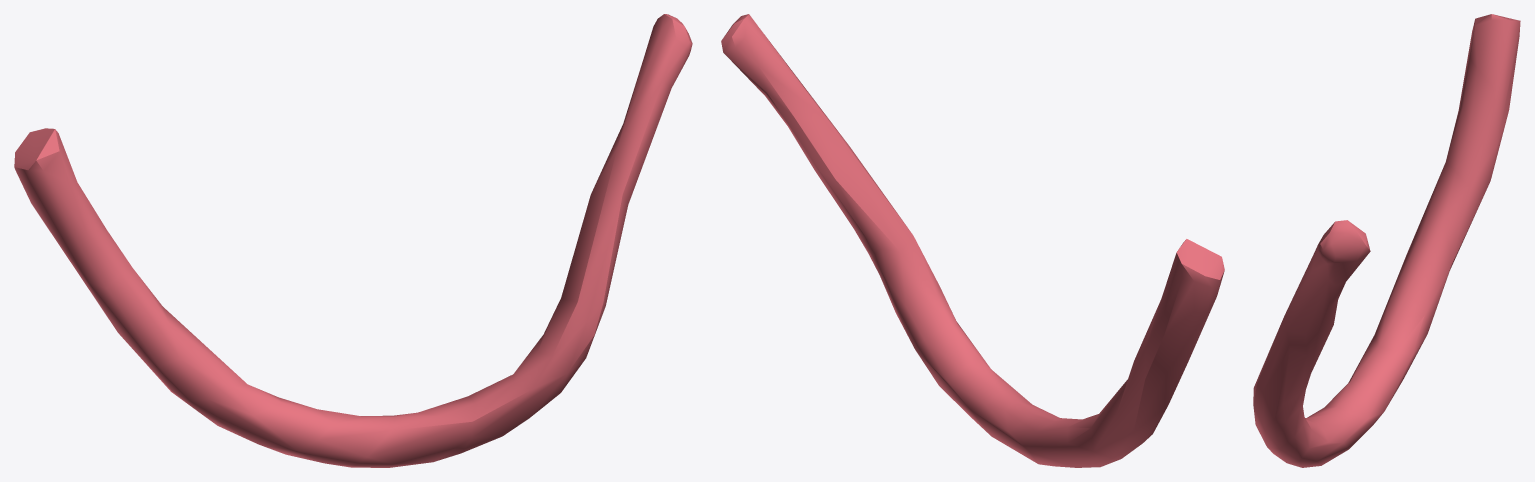
File: fma70479_fj3401.glb
3 renders of one model, left to right at view 1: azimuth 30°, elevation 25°; view 2: azimuth 150°, elevation 25°; view 3: azimuth 270°, elevation 25°, orthographic. The views are drawn at different scales.
Visible parts, largest first — view 1: FMA70479_FJ3401; view 2: FMA70479_FJ3401; view 3: FMA70479_FJ3401.
Boxes of the visible parts, <box> form: FMA70479_FJ3401: <box>14,14,692,467</box>; FMA70479_FJ3401: <box>721,14,1224,467</box>; FMA70479_FJ3401: <box>1253,14,1520,467</box>.
Size of the model in its own units: 0.0315 by 0.0194 by 0.0131.
